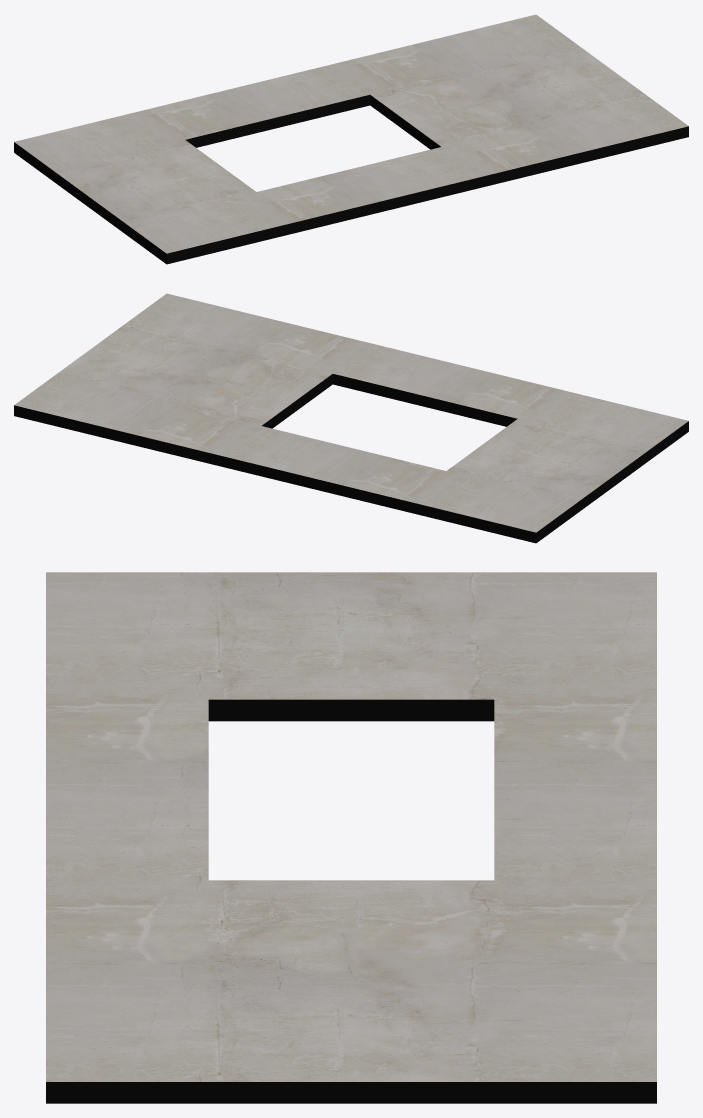
Rendered from losa2x1.DAE.
The picture shows the model from 3 angles, top to bottom: view 1: azimuth 30°, elevation 25°; view 2: azimuth 150°, elevation 25°; view 3: azimuth 270°, elevation 25°; orthographic projection. The views are drawn at different scales.
Parts seen in each view (by area): view 1: loza1x2; view 2: loza1x2; view 3: loza1x2.
Boxes of the visible parts, x1,y1,x2,y2 form: loza1x2: (14,14,688,264); loza1x2: (14,293,688,543); loza1x2: (46,572,656,1103).
Bounding box in the file's own units: 1520 × 30 × 770.
